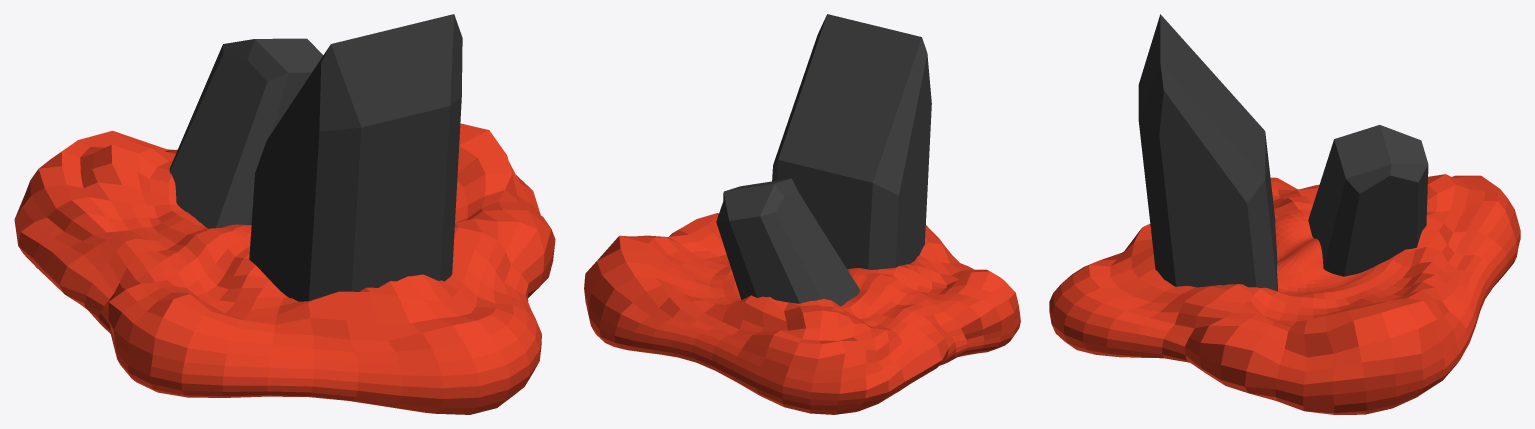
The model's file is lava.fbx.
3 views of the same model, side by side, from view 1: azimuth 30°, elevation 25°; view 2: azimuth 150°, elevation 25°; view 3: azimuth 270°, elevation 25° (orthographic). The views are drawn at different scales.
Parts seen in each view (by area): view 1: lava; view 2: lava; view 3: lava.
Part boxes in pixels (bbox=[...]): lava: bbox=[14, 14, 555, 414]; lava: bbox=[584, 14, 1020, 414]; lava: bbox=[1049, 14, 1520, 414].
Bounding box in the file's own units: 38.34 × 28.68 × 40.7.
